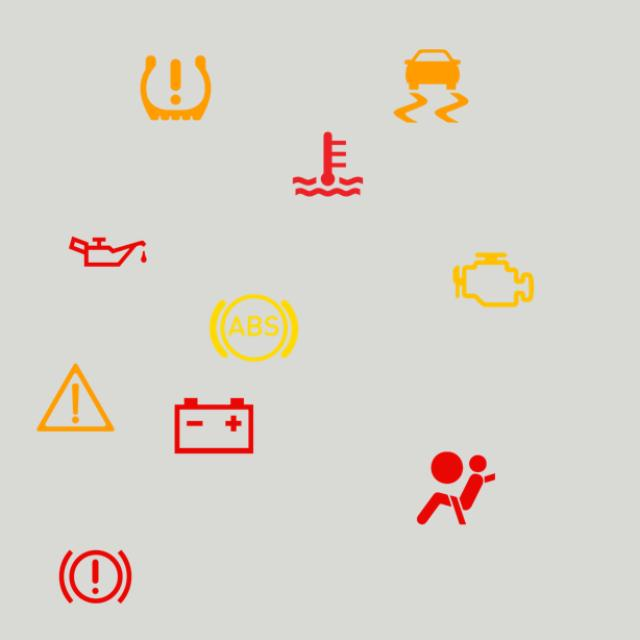Anti Lock Braking System: (205, 279, 302, 376)
Braking System Issue: (47, 528, 144, 626)
Charging System Issue: (165, 378, 262, 474)
Check Engine: (445, 232, 542, 328)
Electronic Stability Problem -ESP-: (382, 38, 480, 134)
Engine Overheating Warning Light: (279, 115, 376, 212)
Low Engine Oil Warning Light: (60, 203, 156, 300)
Low Tire Pressure Warning Light: (127, 40, 224, 136)
Master warning light: (27, 349, 124, 446)
SRS-Airbag: (408, 440, 504, 537)
